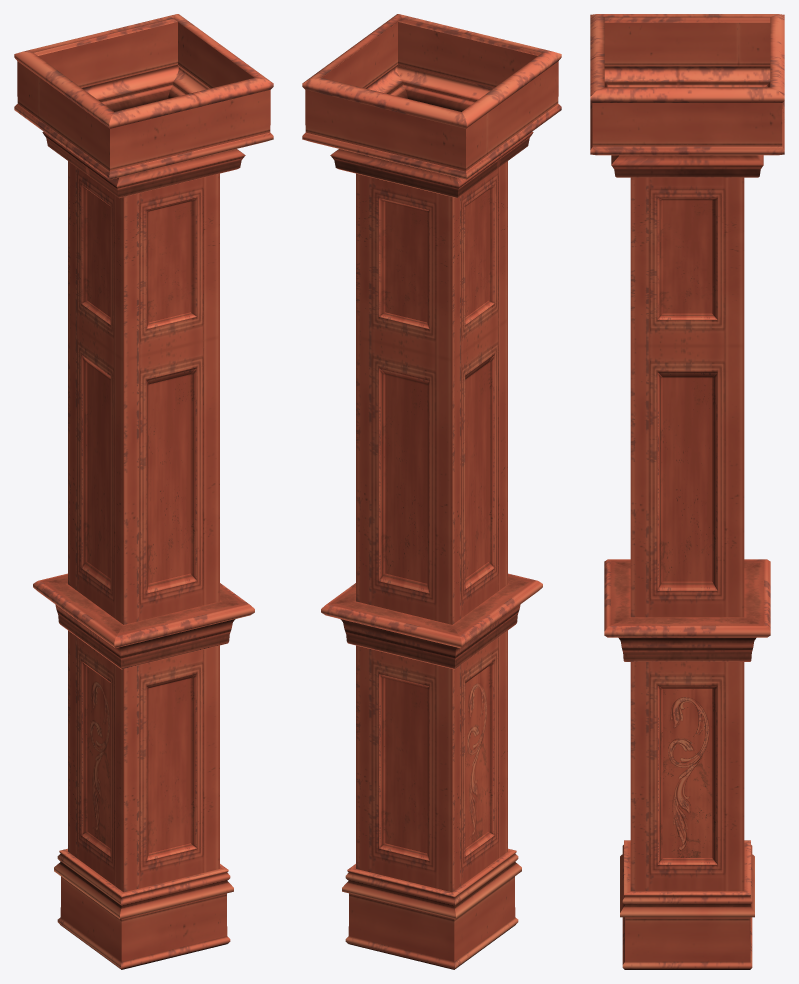
The model's file is MSH_Column_03.FBX.
3 views of the same model, side by side, from view 1: azimuth 30°, elevation 25°; view 2: azimuth 150°, elevation 25°; view 3: azimuth 270°, elevation 25° (orthographic). The views are drawn at different scales.
Visible parts, largest first — view 1: MSH_Column_03; view 2: MSH_Column_03; view 3: MSH_Column_03.
Boxes of the visible parts, x1,y1,x2,y2 form: MSH_Column_03: (14,14,273,969); MSH_Column_03: (302,14,561,969); MSH_Column_03: (590,14,784,969).
Size of what is drawn, in the model's own units: 67.27 by 67.27 by 340.
